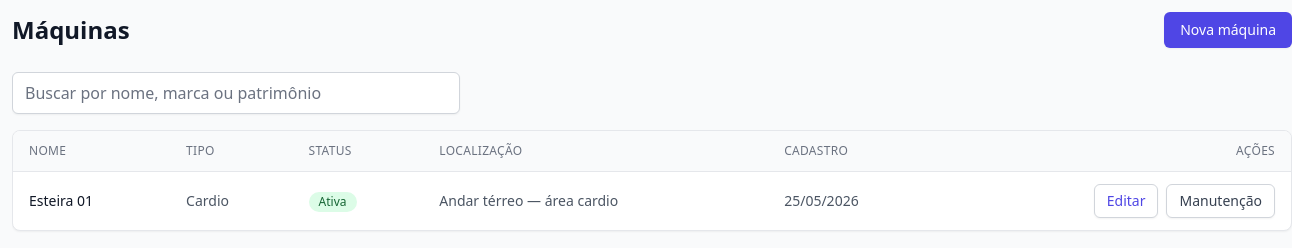
MaquinaListPage › shows no results message when search returns empty
The width and height of the screenshot is (1292, 248).
expect the text "Esteira 01" is shown: met, box [13, 172, 170, 230]
In the search field with placeholder "Buscar por nome, marca ou patrimônio": (236, 93) [12, 72, 460, 114], type "xyz"
Wait 300 ms
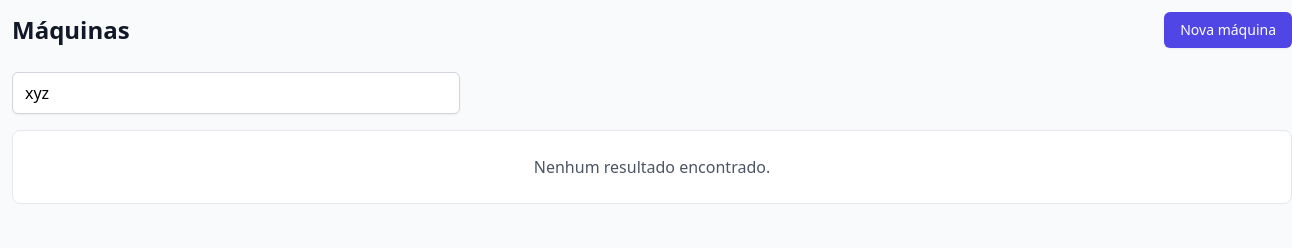
expect the text "Nenhum resultado encontrado." is shown: met, box [12, 130, 1291, 204]
